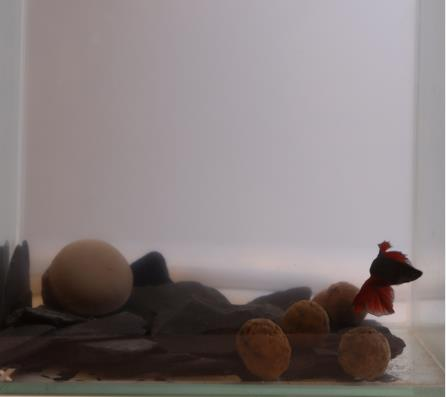fish: (353, 237, 425, 318)
